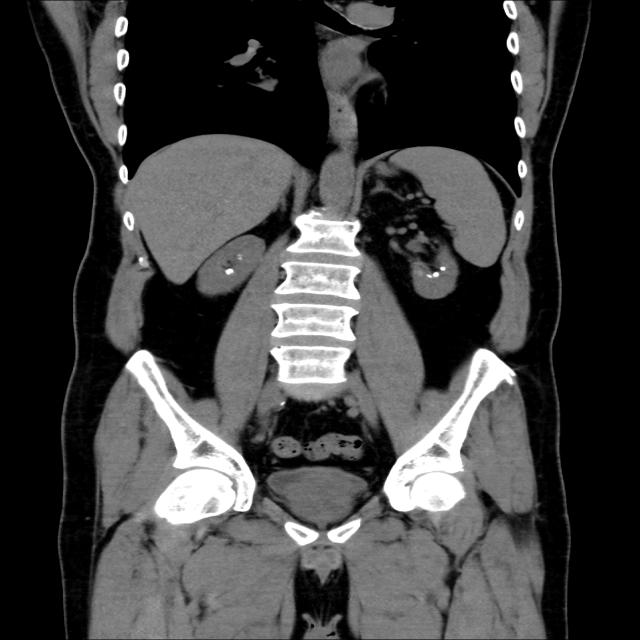kidneystone: (224, 269, 235, 275)
